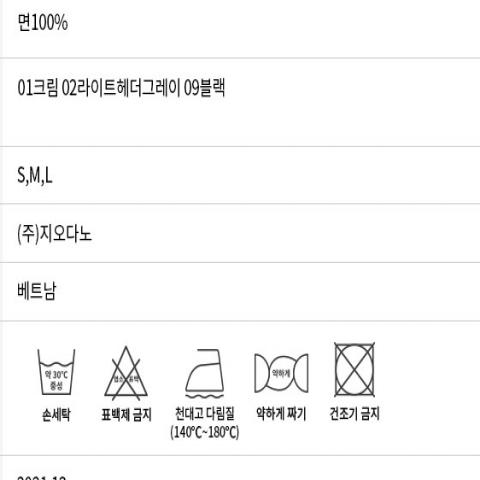30C: (33, 342, 83, 397)
DN_tumble_dry: (327, 336, 383, 400)
iron: (248, 347, 316, 394), (179, 340, 231, 400)
non_chlorine_bleach: (101, 340, 156, 402)
